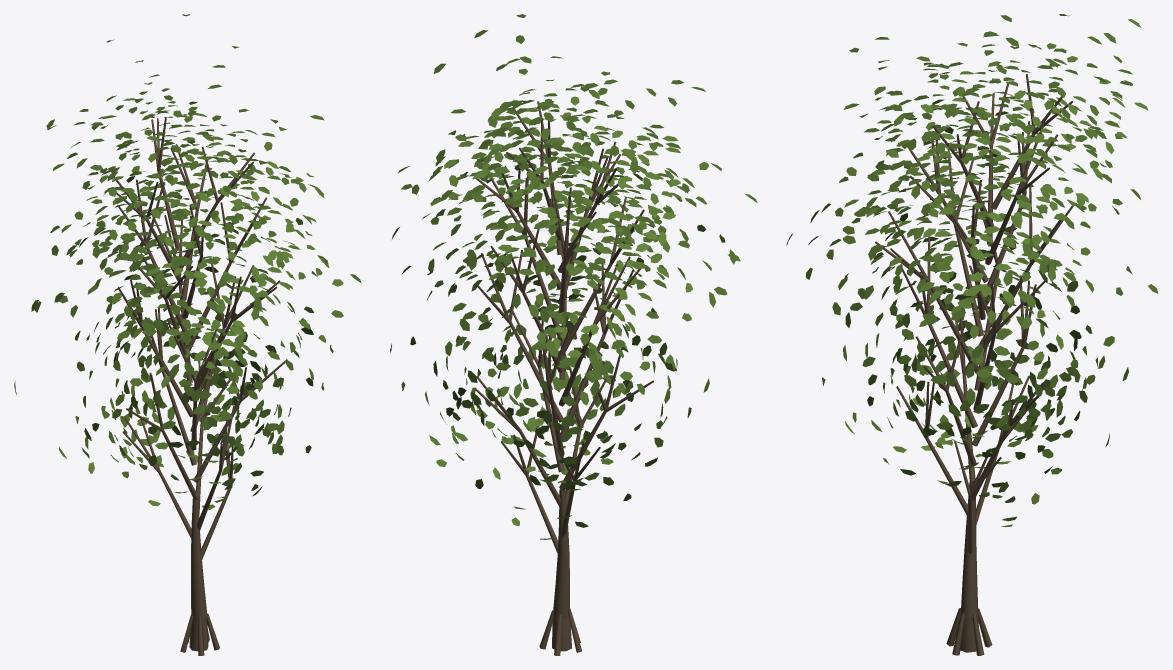
Rendered from poplar_1.glb.
3 renders of one model, left to right at view 1: azimuth 30°, elevation 25°; view 2: azimuth 150°, elevation 25°; view 3: azimuth 270°, elevation 25°, orthographic. The views are drawn at different scales.
Parts seen in each view (by area): view 1: poplar_1_LOD0; view 2: poplar_1_LOD0; view 3: poplar_1_LOD0.
Boxes of the visible parts, box(x1,y1,x2,y2) form: poplar_1_LOD0: box(14, 14, 361, 655); poplar_1_LOD0: box(390, 14, 757, 655); poplar_1_LOD0: box(786, 14, 1158, 655).
Size of what is drawn, in the model's own units: 1.75 by 3.28 by 1.72.
